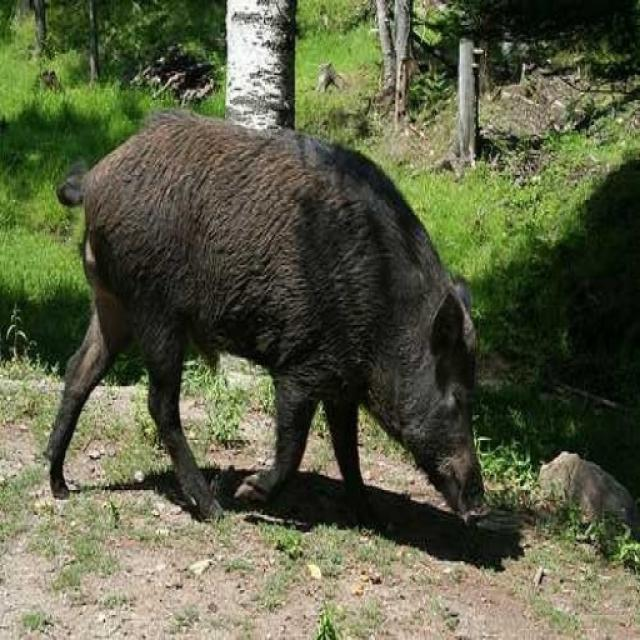pig: (17, 84, 484, 559)
